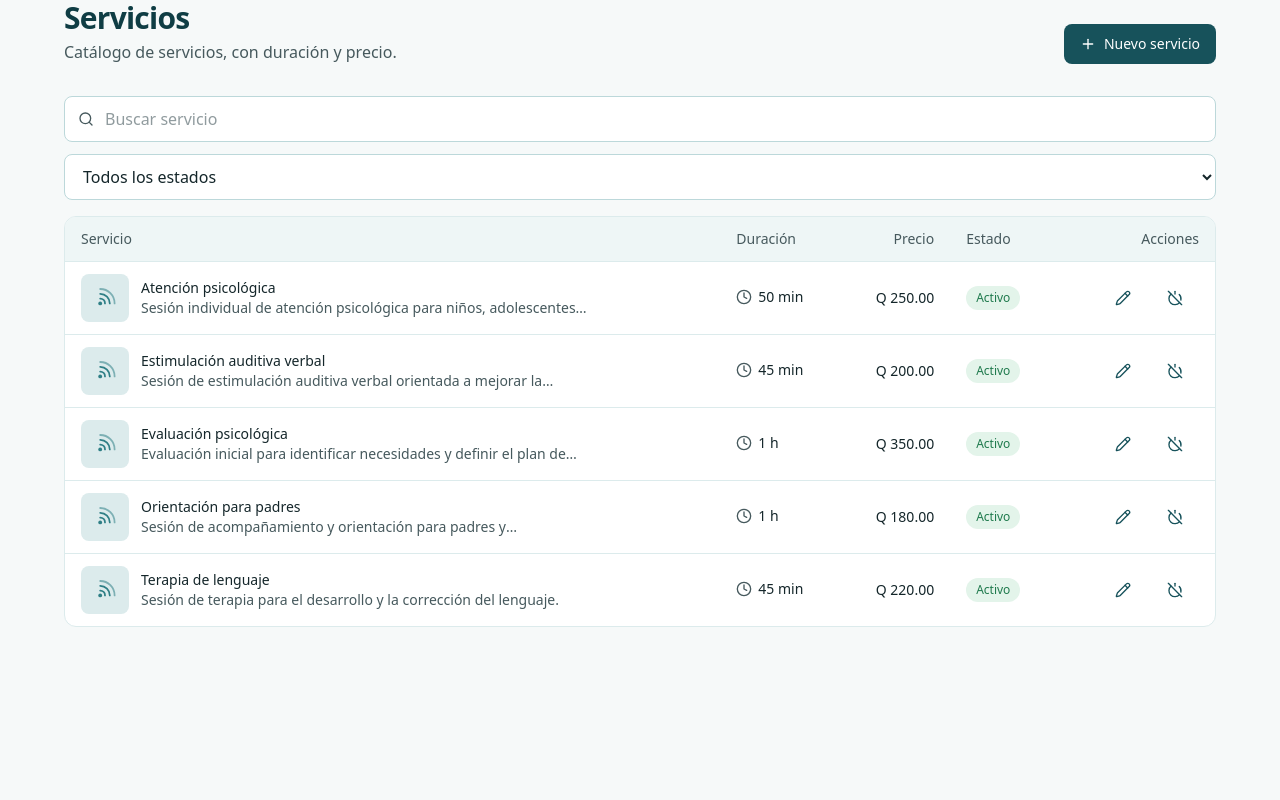
Servicios (panel) › editar: muestra el precio en quetzales y envía el nuevo en centavos
Click the button named "Editar Atención psicológica" at point(1123, 298), box 1099,280 -> 1147,316
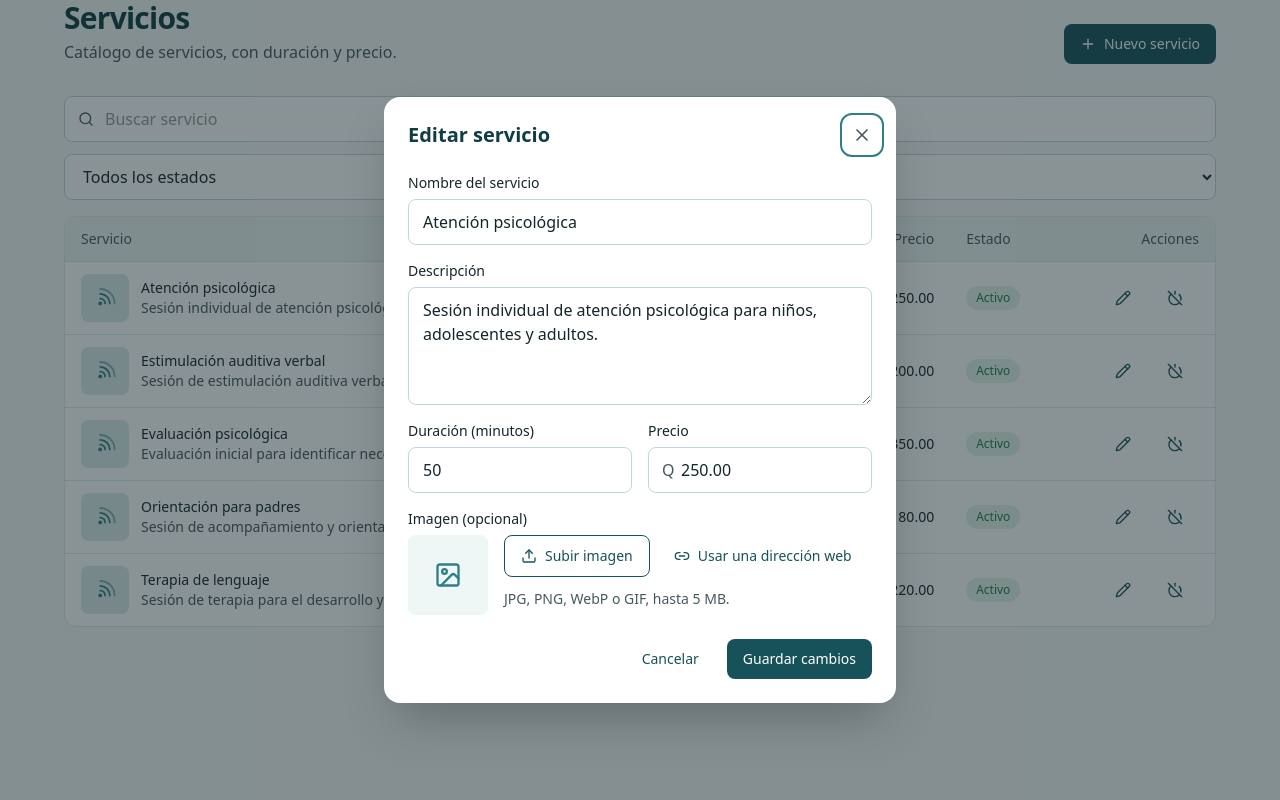
Now the field labelled "Precio" holds "250.00"
Now the field labelled "Duración (minutos)" holds "50", box 408,447 -> 632,493
Type "275.50" into the field labelled "Precio" at point(760, 470), box 648,447 -> 872,493
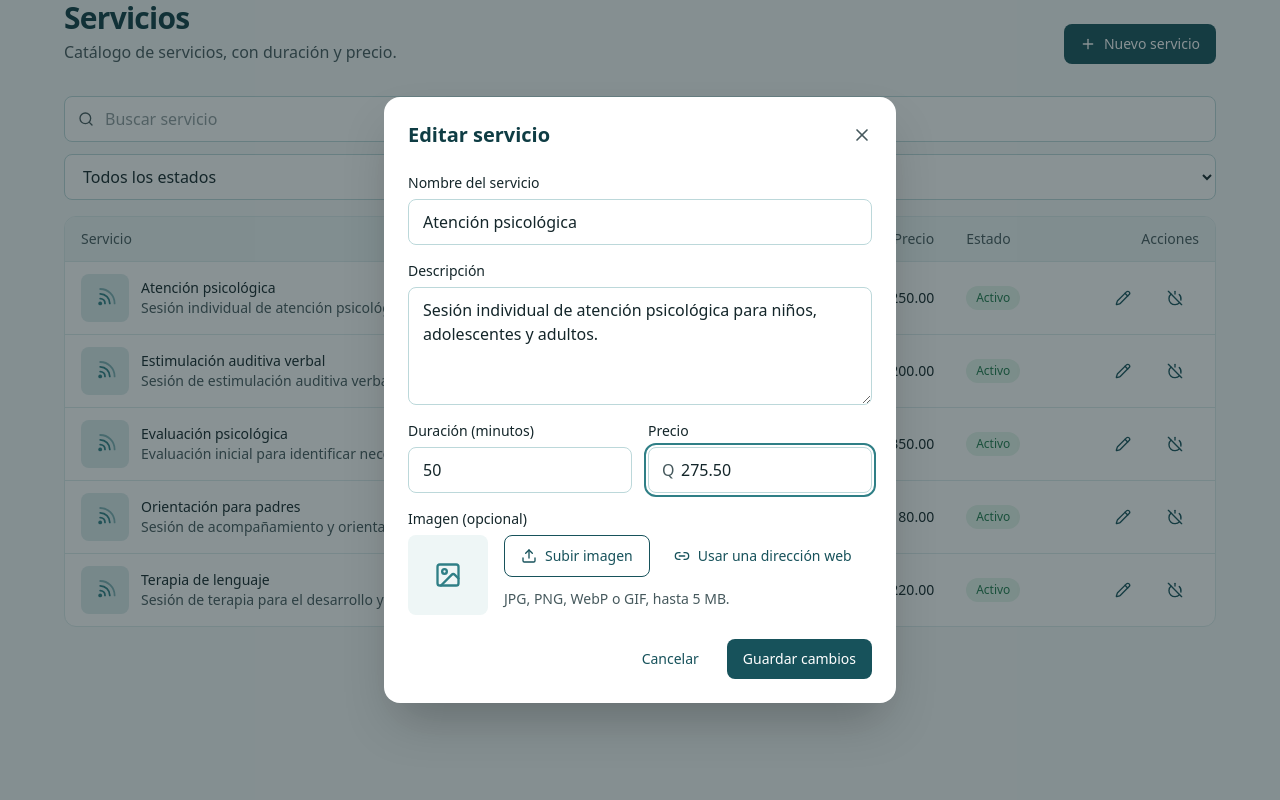
Click the button "Guardar cambios" at point(799, 659), box 727,639 -> 872,679
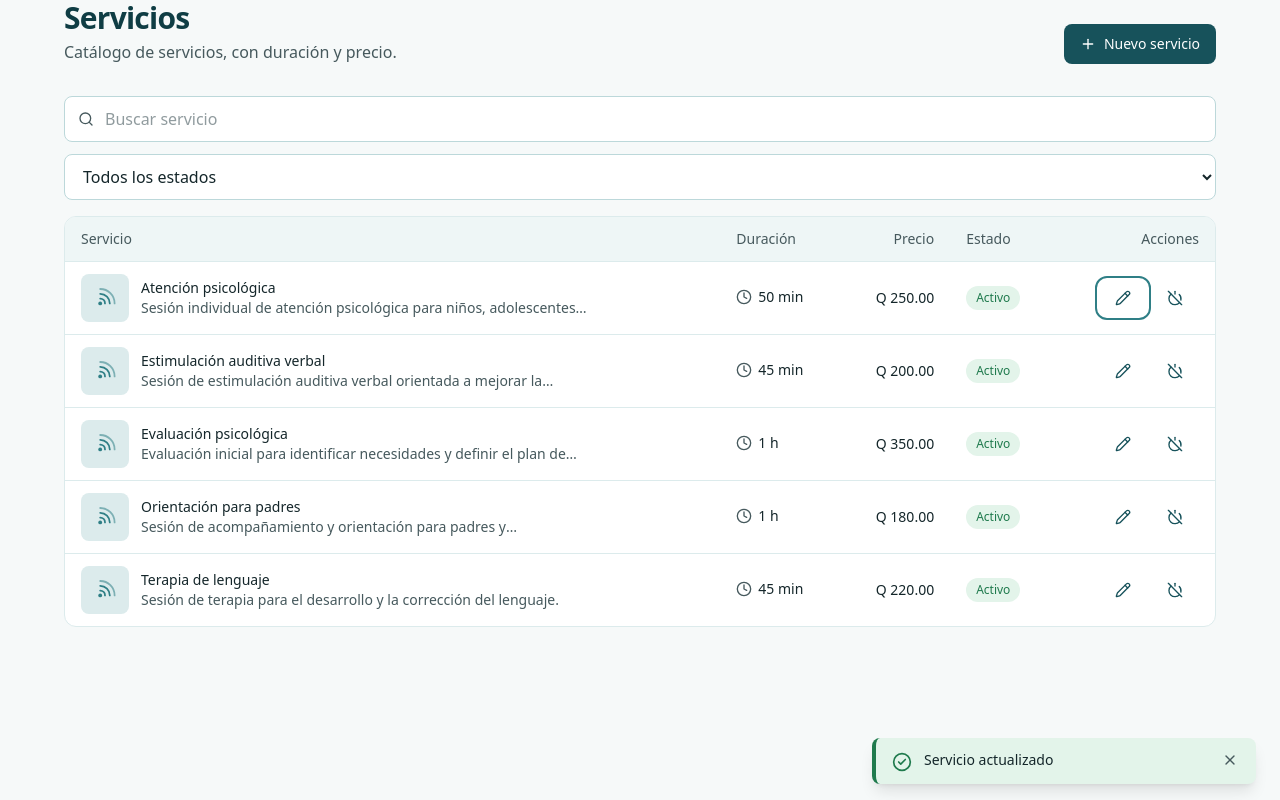
Expected: the text "Atención psicológica" is shown, 141,278 -> 276,297
Now the text "Servicio actualizado" is shown, box 924,750 -> 1053,769
